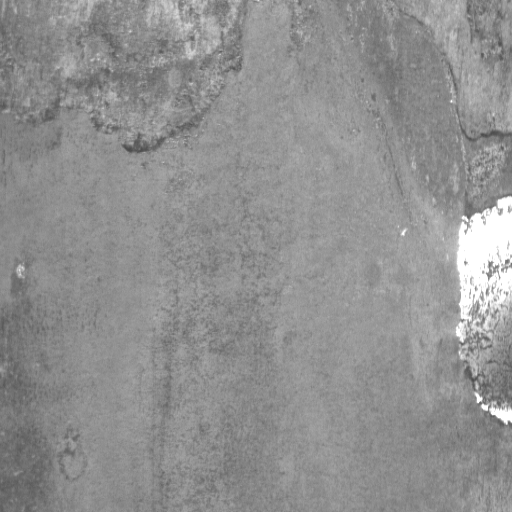qiaopi: (452, 192, 512, 430)
